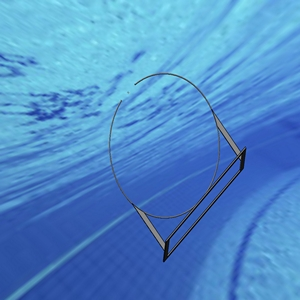circle: (106, 71, 249, 264)
